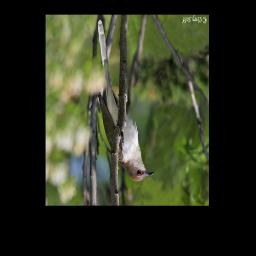Cuckoo: (97, 18, 155, 183)
